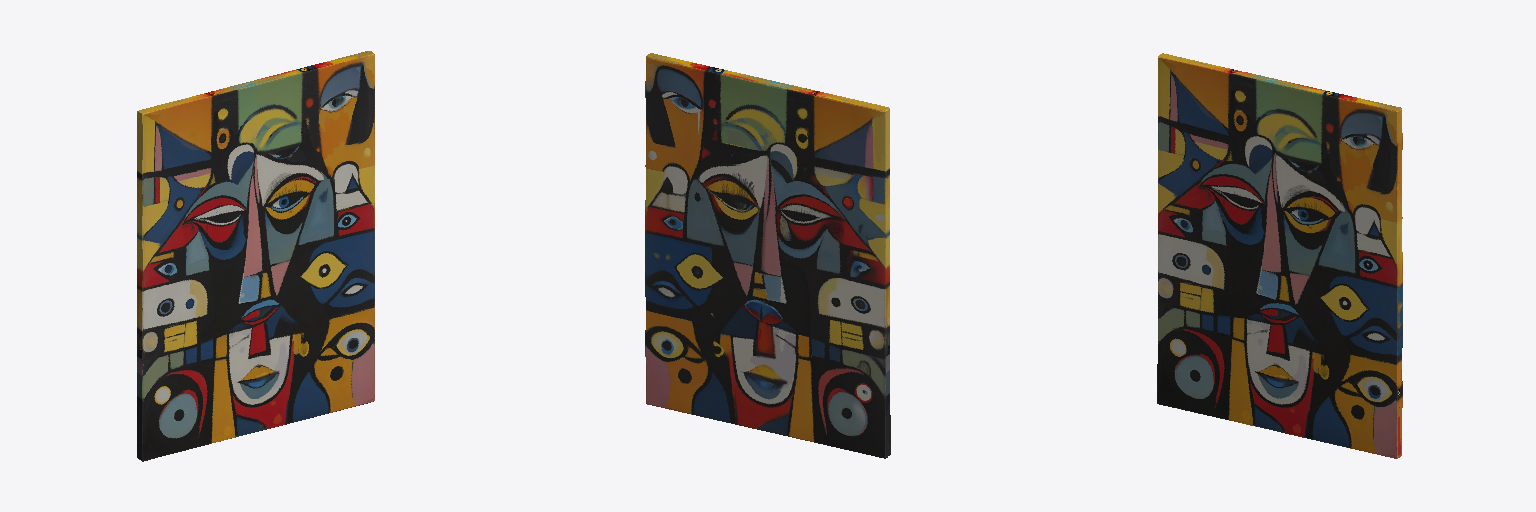
3 renders of one model, left to right at view 1: azimuth 30°, elevation 25°; view 2: azimuth 150°, elevation 25°; view 3: azimuth 330°, elevation 25°, orthographic.
Parts seen in each view (by area): view 1: cuadronuevo3; view 2: cuadronuevo3; view 3: cuadronuevo3.
Part boxes in pixels (left/top/right/bottom): cuadronuevo3: left=137, top=51, right=374, bottom=461; cuadronuevo3: left=645, top=53, right=890, bottom=458; cuadronuevo3: left=1157, top=53, right=1402, bottom=458.
Bounding box in the file's own units: 6.94 × 9.73 × 0.4642.
Materials: 1 (1 with a texture image).